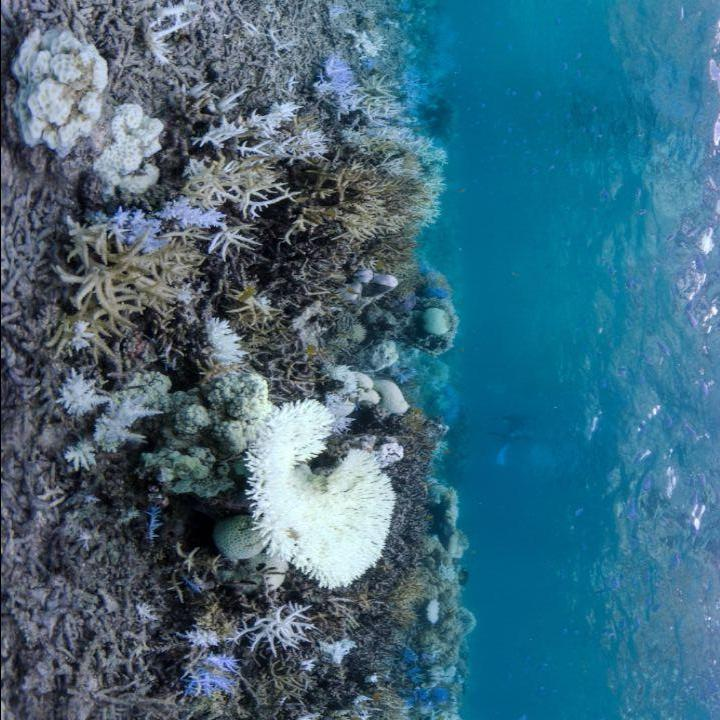Bleached disease: (217, 370, 407, 587), (8, 16, 169, 205)
